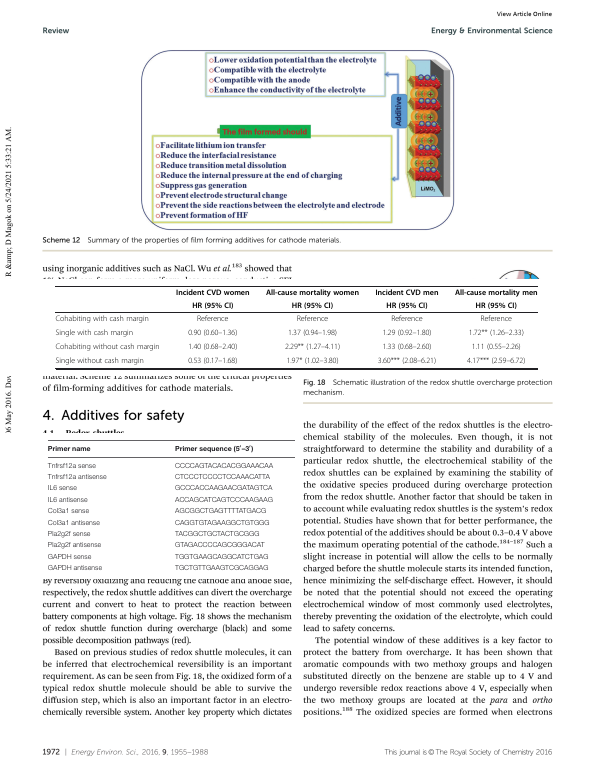borderless: (54, 284, 537, 368), (46, 438, 296, 573)
cell: (54, 342, 160, 352), (54, 314, 150, 324), (174, 462, 274, 471), (174, 496, 274, 505), (55, 356, 145, 366), (174, 473, 270, 482), (174, 564, 269, 573), (265, 288, 360, 297), (174, 507, 267, 516), (54, 328, 134, 338), (174, 485, 273, 493), (174, 530, 260, 539), (174, 519, 270, 527), (174, 553, 269, 561), (454, 288, 538, 297), (174, 542, 265, 550), (175, 288, 250, 297), (174, 445, 254, 453), (377, 356, 437, 366), (466, 356, 526, 366), (374, 288, 439, 297), (468, 328, 525, 338), (284, 342, 341, 352), (47, 473, 107, 482), (285, 356, 339, 366), (187, 328, 238, 338), (287, 328, 338, 338), (381, 328, 432, 338), (187, 342, 238, 352), (381, 342, 432, 352), (471, 342, 522, 352), (187, 356, 238, 366), (47, 564, 103, 573), (47, 462, 96, 471), (47, 542, 102, 550), (191, 301, 234, 311), (291, 301, 334, 311), (385, 301, 428, 311), (475, 301, 518, 311), (47, 519, 100, 527), (47, 530, 91, 539), (47, 507, 90, 516), (47, 496, 88, 505), (47, 553, 92, 561), (47, 445, 91, 453), (390, 314, 424, 324), (479, 314, 513, 324), (196, 314, 229, 324), (296, 314, 329, 324), (47, 485, 77, 493)
